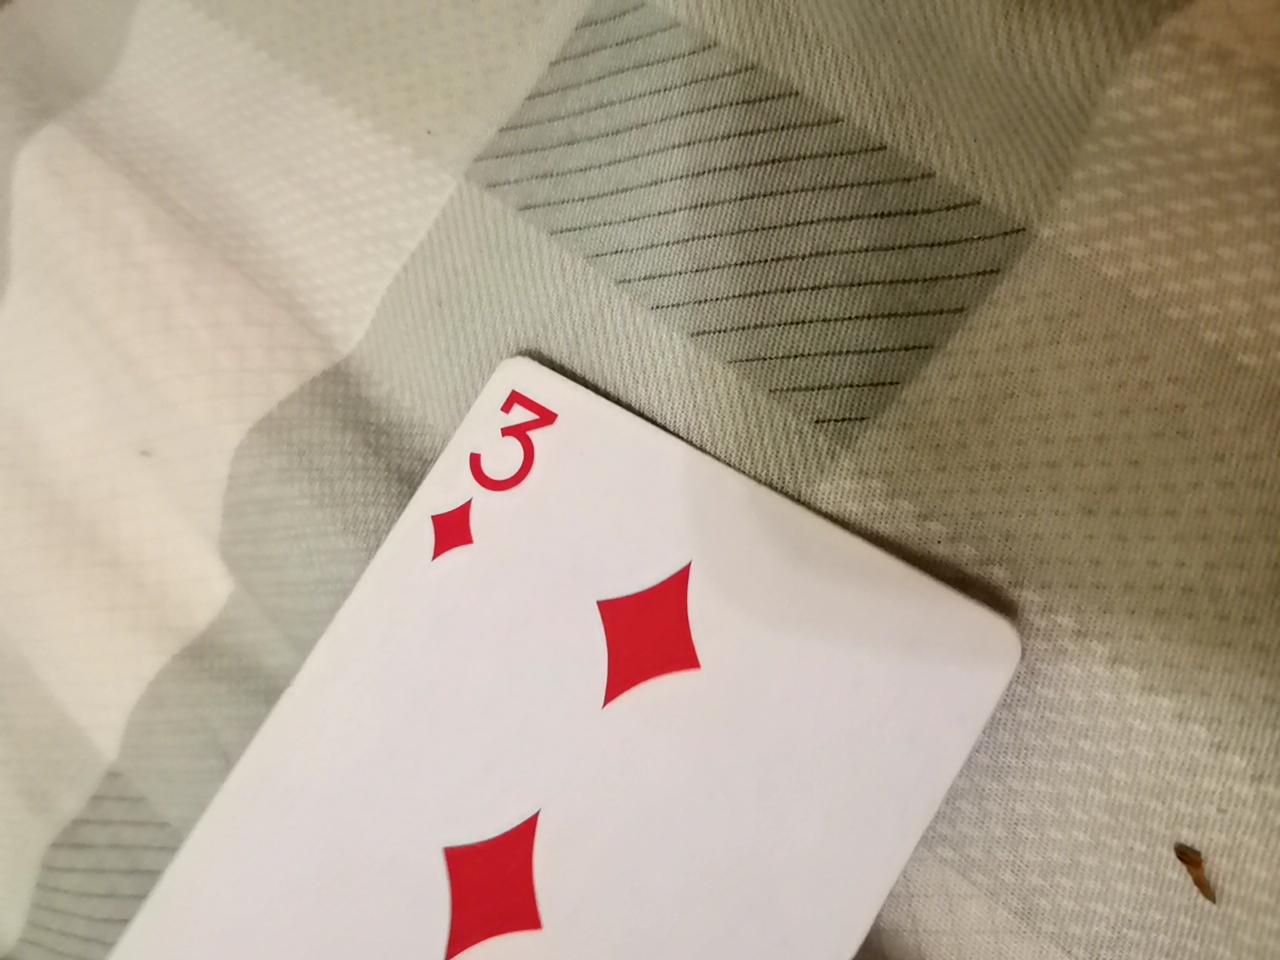fk 3: (26, 327, 1026, 957)
